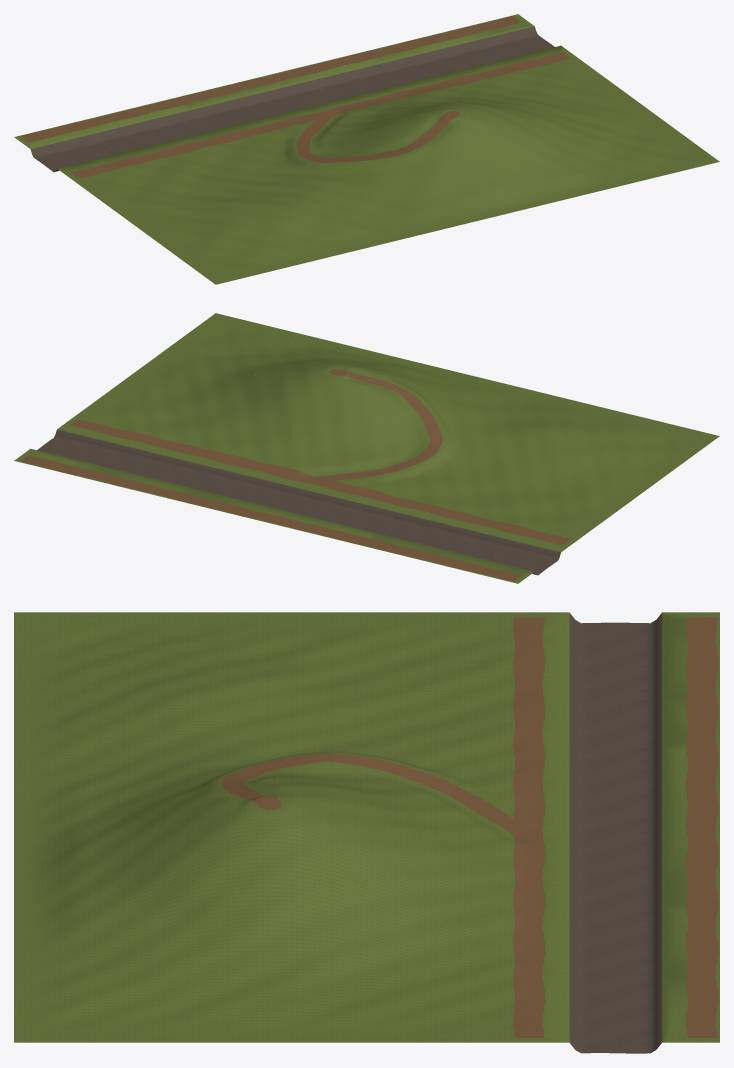
File: expansion-terrain.glb
3 renders of one model, top to bottom at view 1: azimuth 30°, elevation 25°; view 2: azimuth 150°, elevation 25°; view 3: azimuth 270°, elevation 25°, orthographic. The views are drawn at different scales.
Parts seen in each view (by area): view 1: Expansion_Heightfield_Ground cell 0,3, Expansion_Heightfield_Ground cell -1,3, Expansion_Heightfield_Ground cell -2,3, Expansion_Heightfield_Ground cell 1,3, Expansion_Heightfield_Ground cell -1,2, Expansion_Heightfield_Ground cell -2,2, Expansion_Heightfield_Ground cell 1,2, Expansion_Heightfield_Ground cell 0,2, River_North_Walkway, River_South_Walkway, Expansion_Heightfield_Ground cell 0,1, Expansion_Heightfield_Ground cell -1,1 (+7 smaller); view 2: Expansion_Heightfield_Ground cell 0,2, Expansion_Heightfield_Ground cell -1,2, Expansion_Heightfield_Ground cell -1,3, Expansion_Heightfield_Ground cell -2,3, Expansion_Heightfield_Ground cell 1,2, Expansion_Heightfield_Ground cell -2,2, Expansion_Heightfield_Ground cell 1,3, Expansion_Heightfield_Ground cell 0,3, River_South_Walkway, River_North_Walkway, Expansion_Heightfield_Ground cell 0,1, Expansion_Heightfield_Ground cell -1,1 (+7 smaller); view 3: Expansion_Heightfield_Ground cell 0,3, Expansion_Heightfield_Ground cell 1,3, Expansion_Heightfield_Ground cell 0,2, Expansion_Heightfield_Ground cell 1,2, Expansion_Heightfield_Ground cell -1,3, Expansion_Heightfield_Ground cell -2,2, Expansion_Heightfield_Ground cell -1,2, Expansion_Heightfield_Ground cell -2,3, River_North_Walkway, River_South_Walkway, Expansion_Heightfield_Ground cell -1,1, Expansion_Heightfield_Ground cell 0,1 (+7 smaller).
Boxes of the visible parts, x1,y1,x2,y2 form: Expansion_Heightfield_Ground cell 0,3: (375,103,591,210); Expansion_Heightfield_Ground cell -1,3: (238,132,454,245); Expansion_Heightfield_Ground cell -2,3: (120,186,316,274); Expansion_Heightfield_Ground cell 1,3: (513,92,706,177); Expansion_Heightfield_Ground cell -1,2: (158,103,374,185); Expansion_Heightfield_Ground cell -2,2: (44,137,237,218); Expansion_Heightfield_Ground cell 1,2: (433,42,626,106); Expansion_Heightfield_Ground cell 0,2: (296,70,512,132); River_North_Walkway: (20,16,520,142); River_South_Walkway: (70,52,570,178); Expansion_Heightfield_Ground cell 0,1: (262,38,436,103); Expansion_Heightfield_Ground cell -1,1: (123,74,294,136); Expansion_Heightfield_Ground cell 0,2: (158,390,374,506); Expansion_Heightfield_Ground cell -1,2: (296,419,512,540); Expansion_Heightfield_Ground cell -1,3: (375,381,592,472); Expansion_Heightfield_Ground cell -2,3: (513,416,706,505); Expansion_Heightfield_Ground cell 1,2: (44,380,237,472); Expansion_Heightfield_Ground cell -2,2: (434,473,623,567); Expansion_Heightfield_Ground cell 1,3: (122,323,316,393); Expansion_Heightfield_Ground cell 0,3: (238,348,453,418); River_South_Walkway: (70,419,570,545); River_North_Walkway: (21,455,521,581); Expansion_Heightfield_Ground cell 0,1: (112,473,296,520); Expansion_Heightfield_Ground cell -1,1: (259,506,434,556); Expansion_Heightfield_Ground cell 0,3: (55,777,337,940); Expansion_Heightfield_Ground cell 1,3: (55,907,354,1042); Expansion_Heightfield_Ground cell 0,2: (338,787,621,955); Expansion_Heightfield_Ground cell 1,2: (328,918,621,1053); Expansion_Heightfield_Ground cell -1,3: (60,692,343,821); Expansion_Heightfield_Ground cell -2,2: (322,612,621,722); Expansion_Heightfield_Ground cell -1,2: (338,704,621,839); Expansion_Heightfield_Ground cell -2,3: (55,612,354,708); River_North_Walkway: (685,617,718,1037); River_South_Walkway: (512,617,545,1037); Expansion_Heightfield_Ground cell -1,1: (610,705,719,840); Expansion_Heightfield_Ground cell 0,1: (610,815,719,959).
Bounding box in the file's own units: 88 × 7.98 × 61.
Materials: 3 (3 with a texture image).
